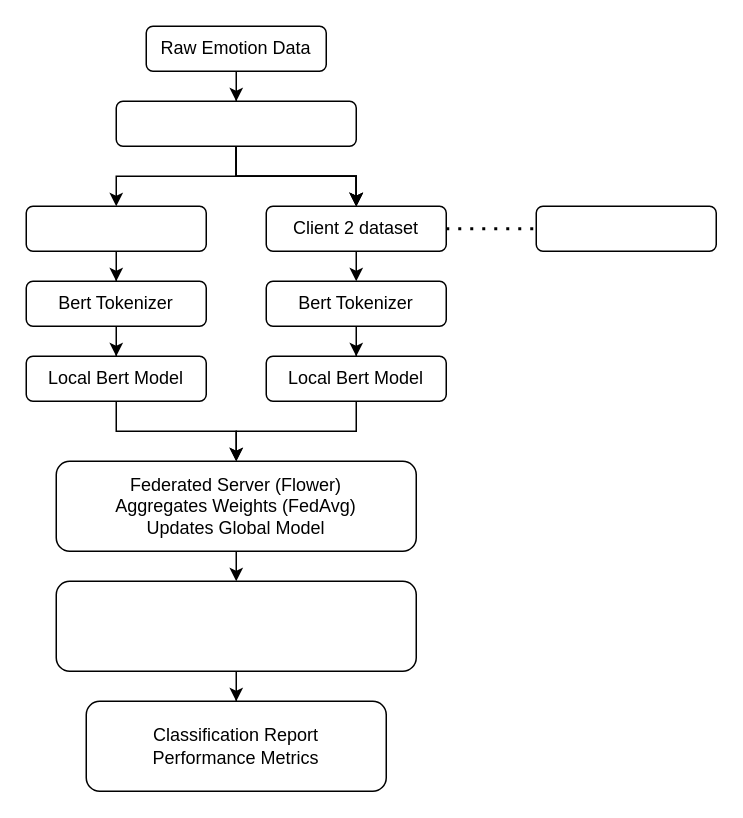
Some shapes in this 743 by 818 pixel diagram are drawn without their labels. The centre of each missing label's shape, as x and y in pixels:
Client 1 dataset: the point at 115,228
Client N dataset: the point at 625,228
Processing and labelling: the point at 235,123
Updated Global Bert Evaluated on each Client's Data: the point at 235,625
